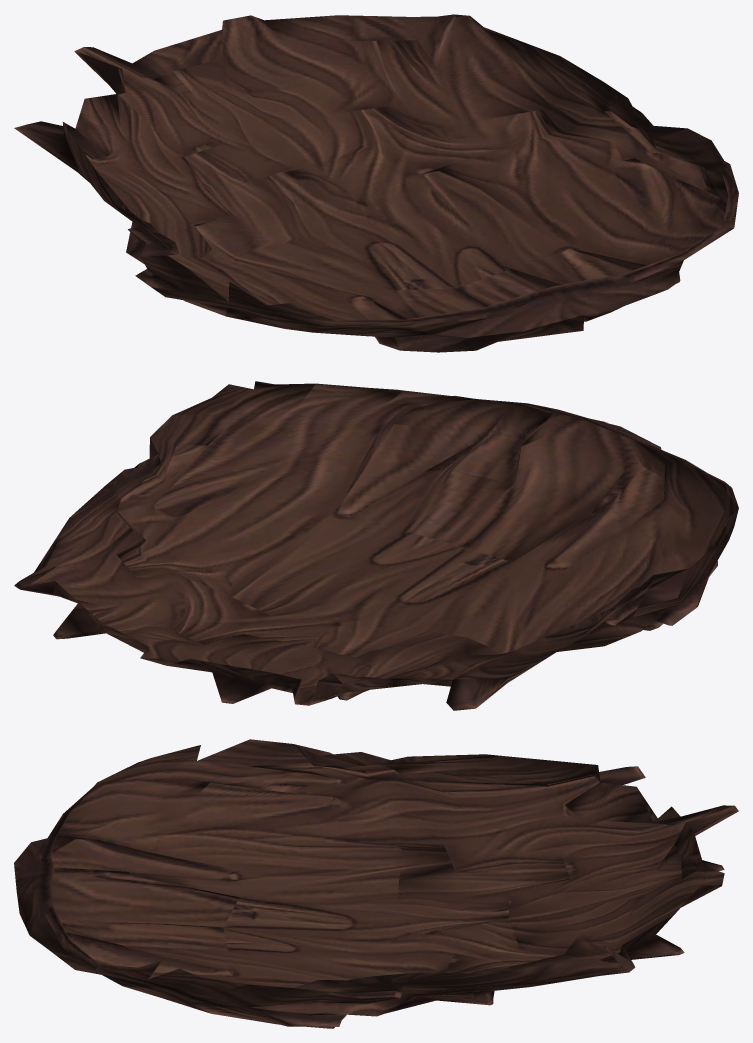
The model's file is ToddysWig_WorldItem.fbx.
The picture shows the model from 3 angles, top to bottom: view 1: azimuth 30°, elevation 25°; view 2: azimuth 150°, elevation 25°; view 3: azimuth 270°, elevation 25°; orthographic projection. The views are drawn at different scales.
Parts seen in each view (by area): view 1: Pogo; view 2: Pogo; view 3: Pogo.
Part boxes in pixels (left/top/right/bottom): Pogo: left=14, top=14, right=738, bottom=352; Pogo: left=14, top=381, right=738, bottom=710; Pogo: left=14, top=739, right=738, bottom=1028.
Bounding box in the file's own units: 0.1338 × 0.0204 × 0.16.
